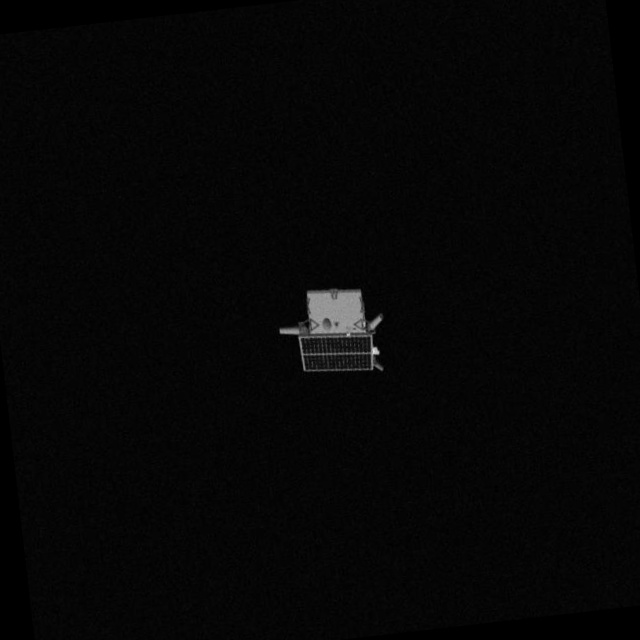medium_debris: (267, 267, 405, 387)
